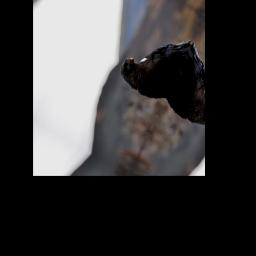Crow: (113, 12, 193, 107)
